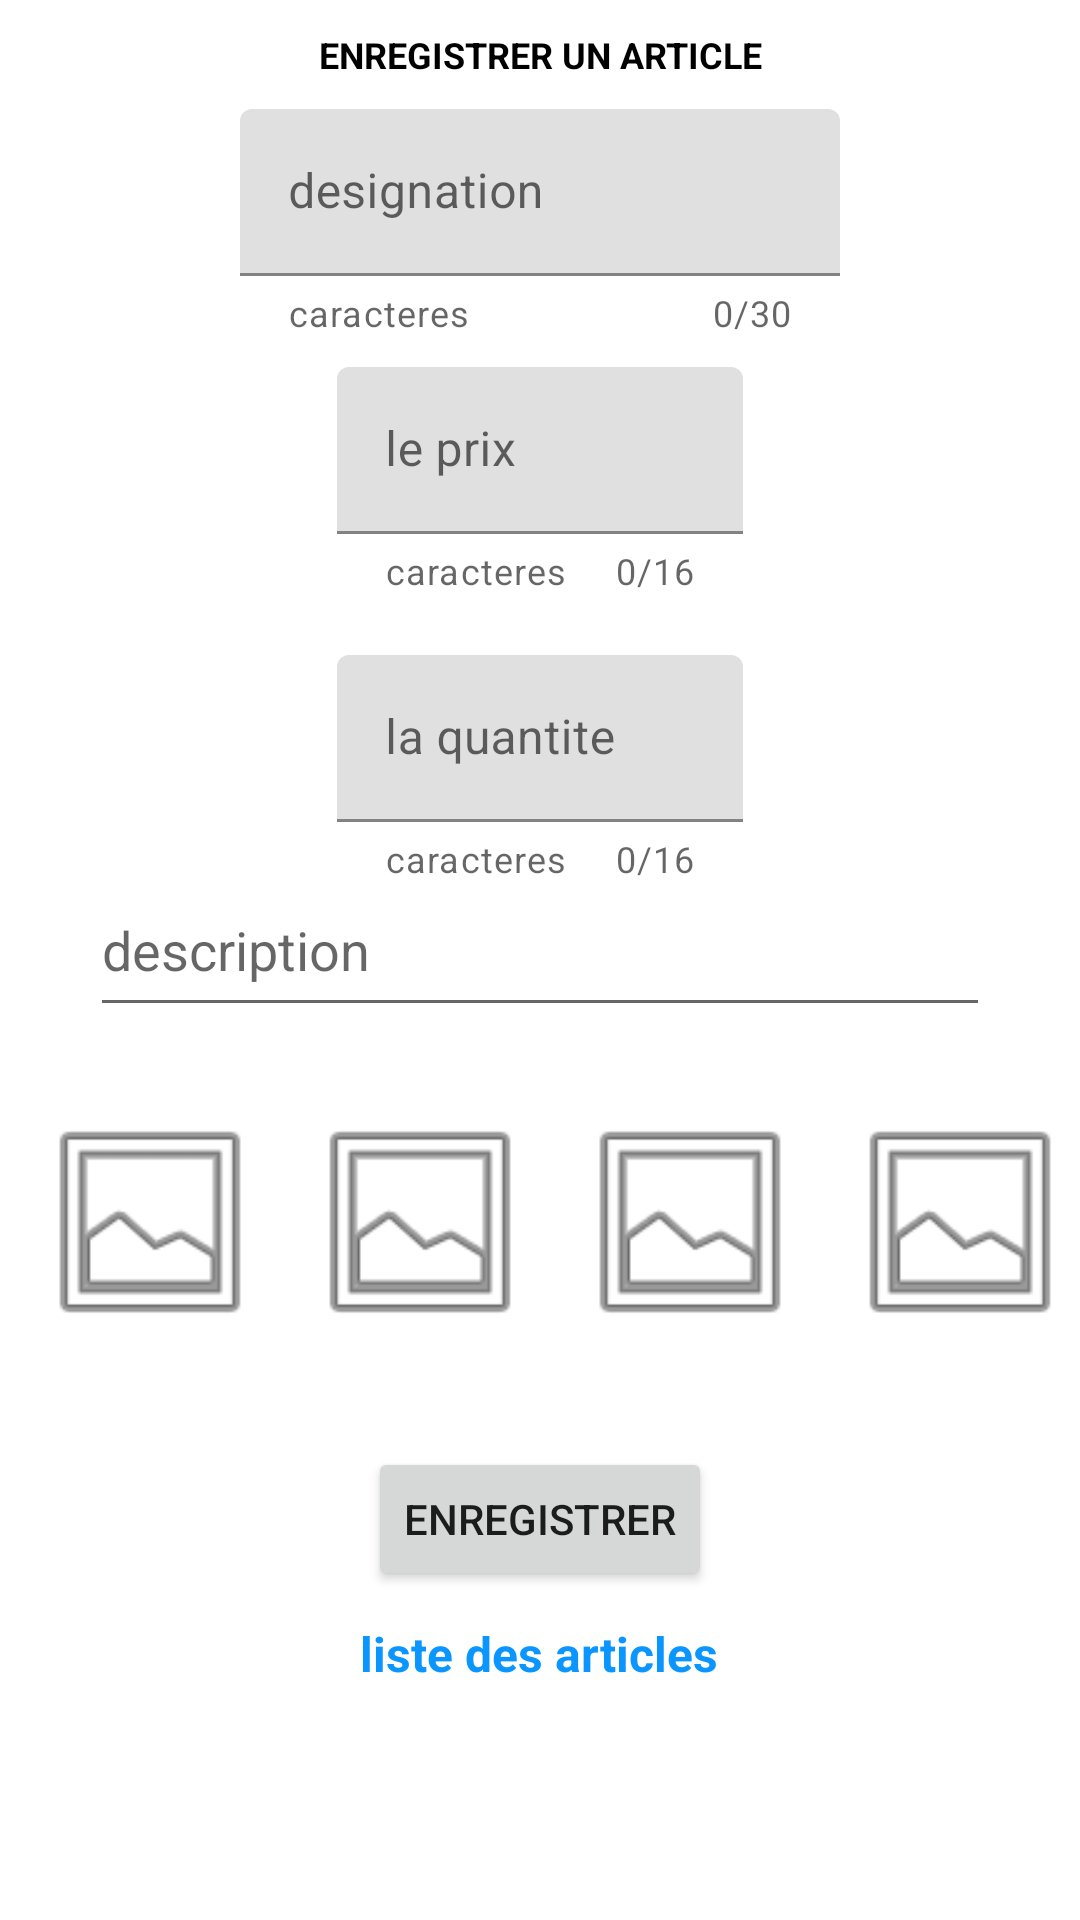

Icons on this 1080x1920 Android screen, each with its box as (x1, y1, x2, y2):
article image: (59, 1131, 241, 1313), (329, 1131, 511, 1313), (599, 1131, 781, 1313), (869, 1131, 1051, 1313)
